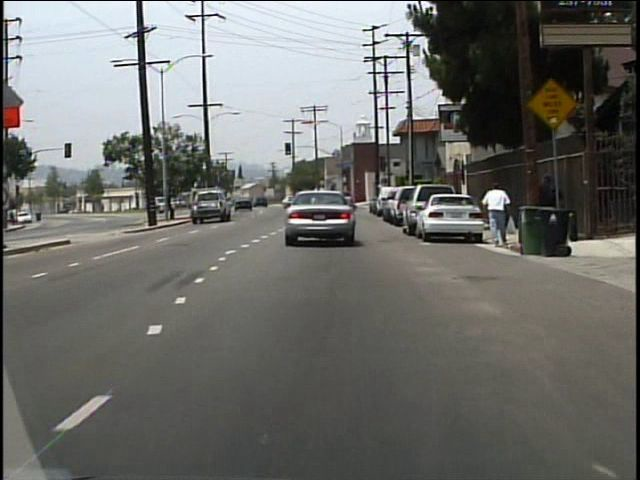person: (482, 180, 513, 250)
